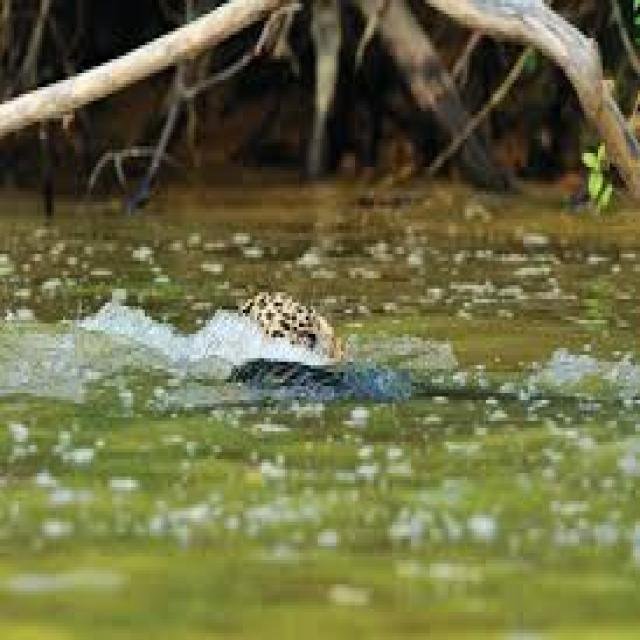Jaguar: (234, 285, 346, 365)
